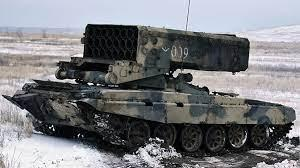rszo: (24, 16, 292, 154)
